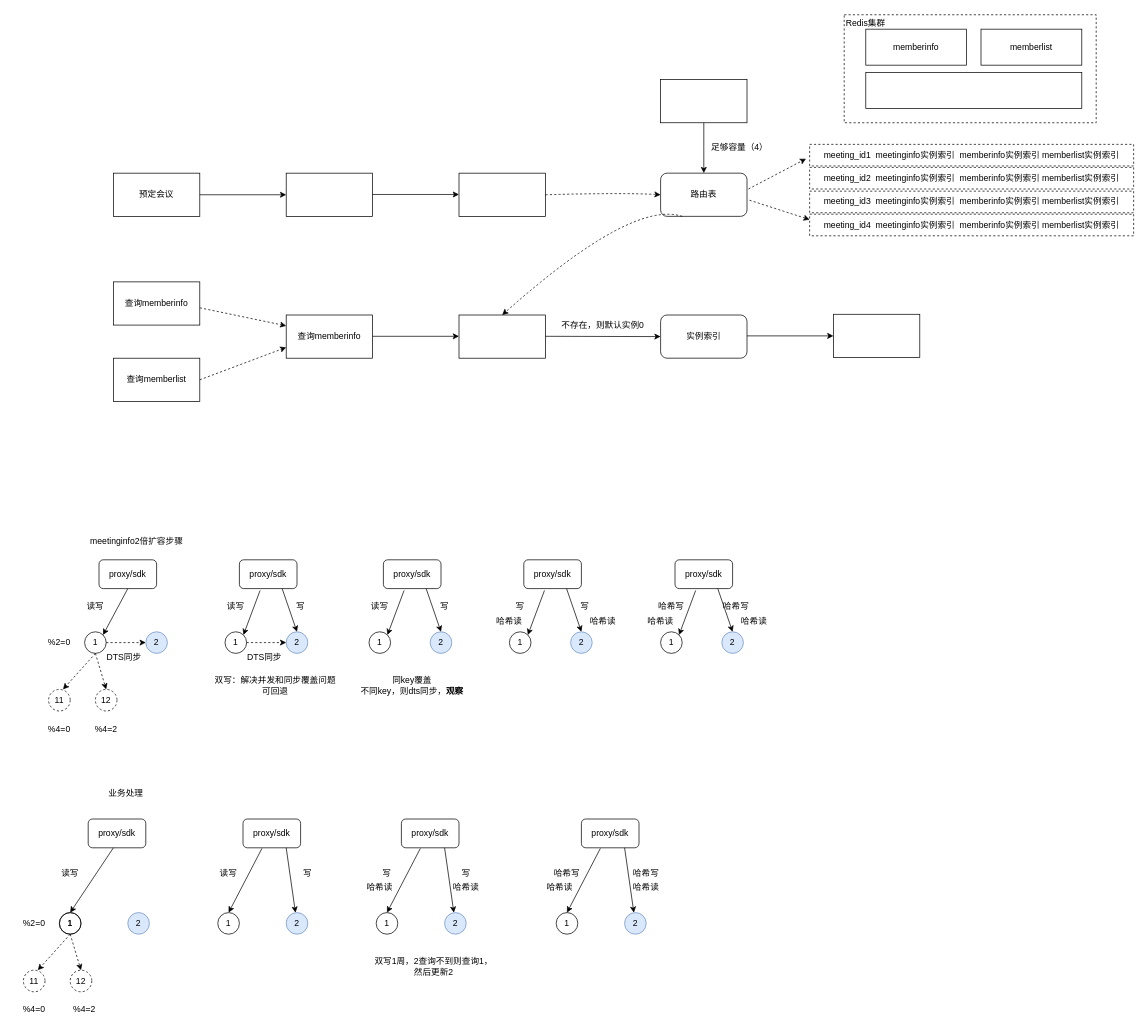
The diagram is 1146 pixels wide and 1032 high, and some of its shapes have lost their labels. The shapes that lost their labels are listed below. From the top down, each one's centre as x and y in pixels, then its label:
point (703, 101): 预先申请
point (973, 90): meetinginfo
point (329, 194): 计算路由
point (501, 194): 更新路由表
point (501, 336): 查询路由表
point (876, 335): 请求实例
